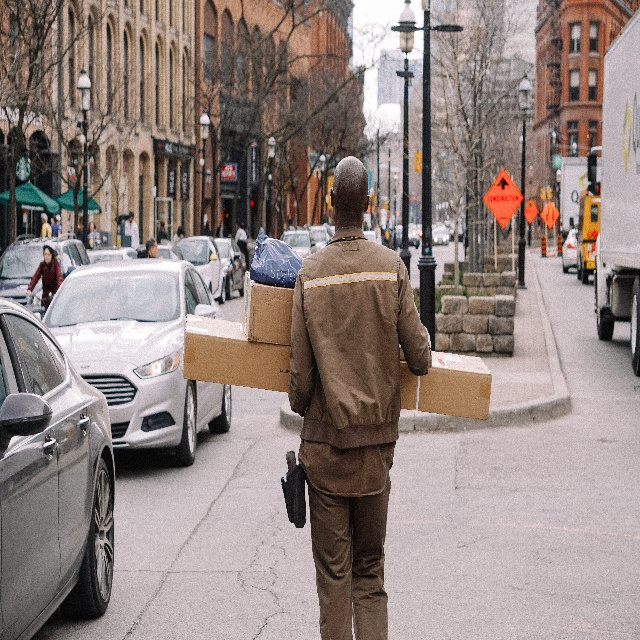Sin_guantes: (26, 289, 32, 297)
